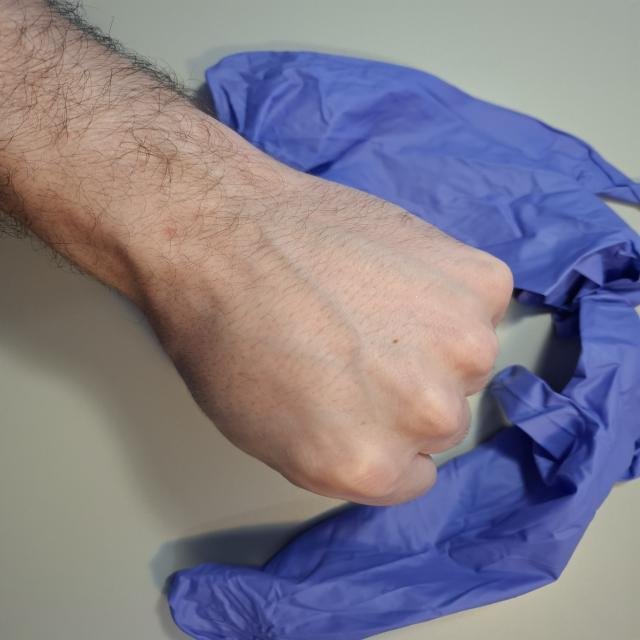glove_off: (102, 167, 517, 509)
